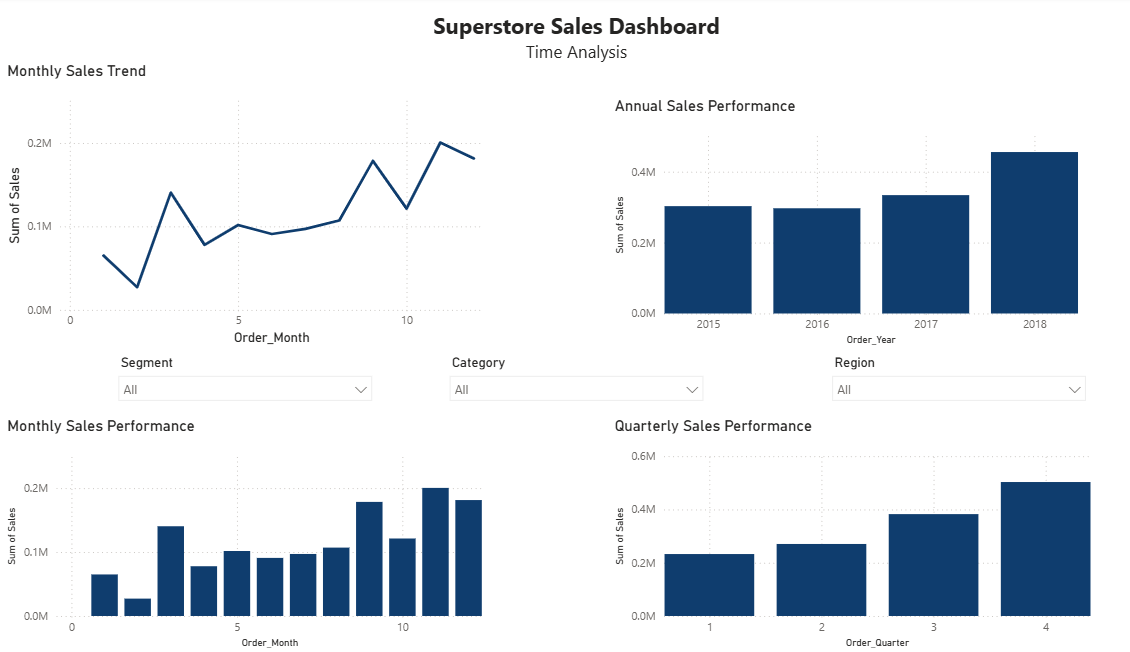

What the dashboard file says about the page in this screenshot:
{"tool":"powerbi","page":{"name":"Time Analysis","canvas":[1280,720],"ordinal":2},"visuals":[{"type":"lineChart","title":"Monthly Sales Trend","fields":{"Category":["superstore.Order_Year","superstore.Order_Month"],"Y":["Sum(superstore.Sales)"]},"box":[9.6,71.4,532.4,317],"z":0},{"type":"clusteredColumnChart","title":"Annual Sales Performance","fields":{"Category":["superstore.Order_Year"],"Y":["Sum(superstore.Sales)"]},"box":[676.5,109.8,518.7,278.6],"z":1000},{"type":"columnChart","title":"Monthly Sales Performance","fields":{"Category":["superstore.Order_Month"],"Y":["Sum(superstore.Sales)"]},"box":[9.6,461.1,532.4,259.3],"z":2000},{"type":"clusteredColumnChart","title":"Quarterly Sales Performance","fields":{"Category":["superstore.Order_Quarter"],"Y":["Sum(superstore.Sales)"]},"box":[676.5,461.1,532.4,259.3],"z":3000},{"type":"slicer","fields":{"Values":["superstore.Segment"]},"box":[126.2,388.3,299.1,63.1],"z":4000},{"type":"slicer","fields":{"Values":["superstore.Category"]},"box":[489.9,388.3,299.1,63.1],"z":5000},{"type":"slicer","fields":{"Values":["superstore.Region"]},"box":[909.8,388.3,299.1,63.1],"z":6000},{"type":"textbox","box":[433.6,11,411.7,79.6],"z":6001}]}

Visuals, with their boxes in screenshot pixels (x1, y1, x2, y2), scaled from the page's 1280x720 canvas onto the 1130x652 screenshot:
"Monthly Sales Trend" lineChart: (8, 65, 478, 352)
"Annual Sales Performance" clusteredColumnChart: (597, 99, 1055, 352)
"Monthly Sales Performance" columnChart: (8, 418, 478, 651)
"Quarterly Sales Performance" clusteredColumnChart: (597, 418, 1067, 651)
slicer - superstore.Segment: (111, 352, 375, 409)
slicer - superstore.Category: (432, 352, 697, 409)
slicer - superstore.Region: (803, 352, 1067, 409)
textbox: (383, 10, 746, 82)
